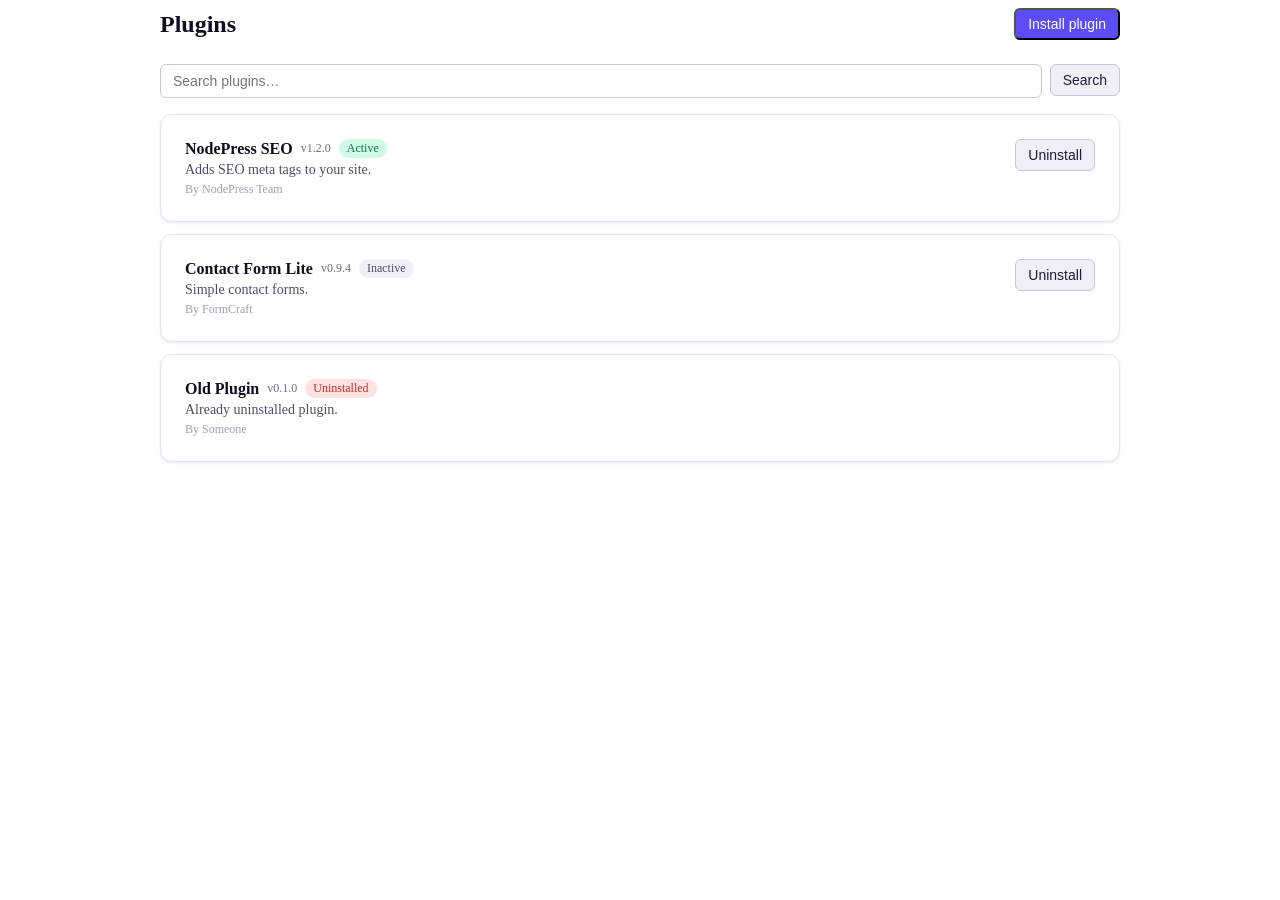
Test: PluginsPage — marketplace (Sprint 7) › install modal — shows error message on backend failure
Check: the text "NodePress SEO" is shown, box [185, 140, 293, 158]
Note: Exact name to avoid matching "Uninstall plugin ..." buttons
Click the button "Install plugin": click(1067, 24) [1014, 8, 1120, 40]
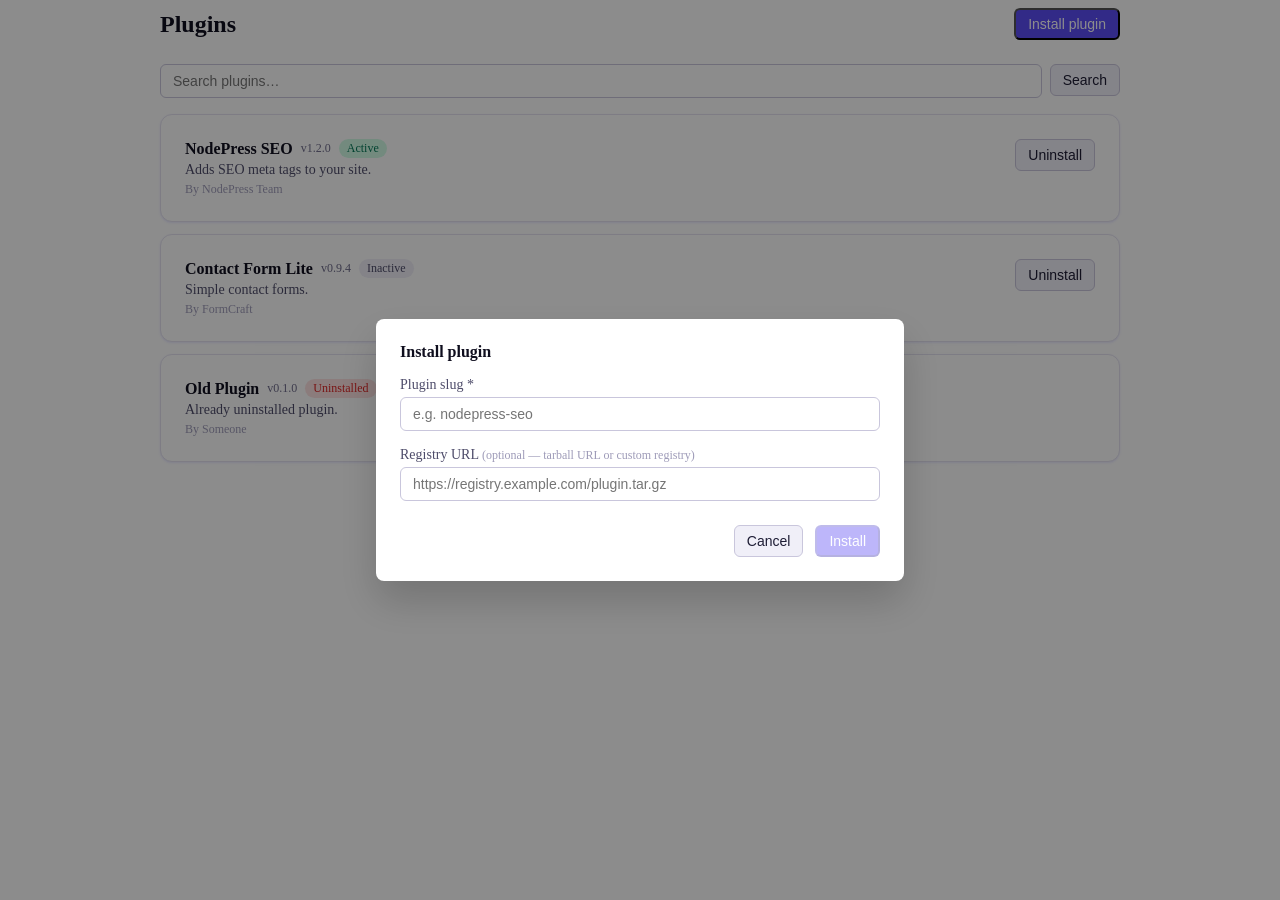
In the field labelled "Plugin slug *": (640, 414) [400, 397, 880, 431], type "bad-plugin"
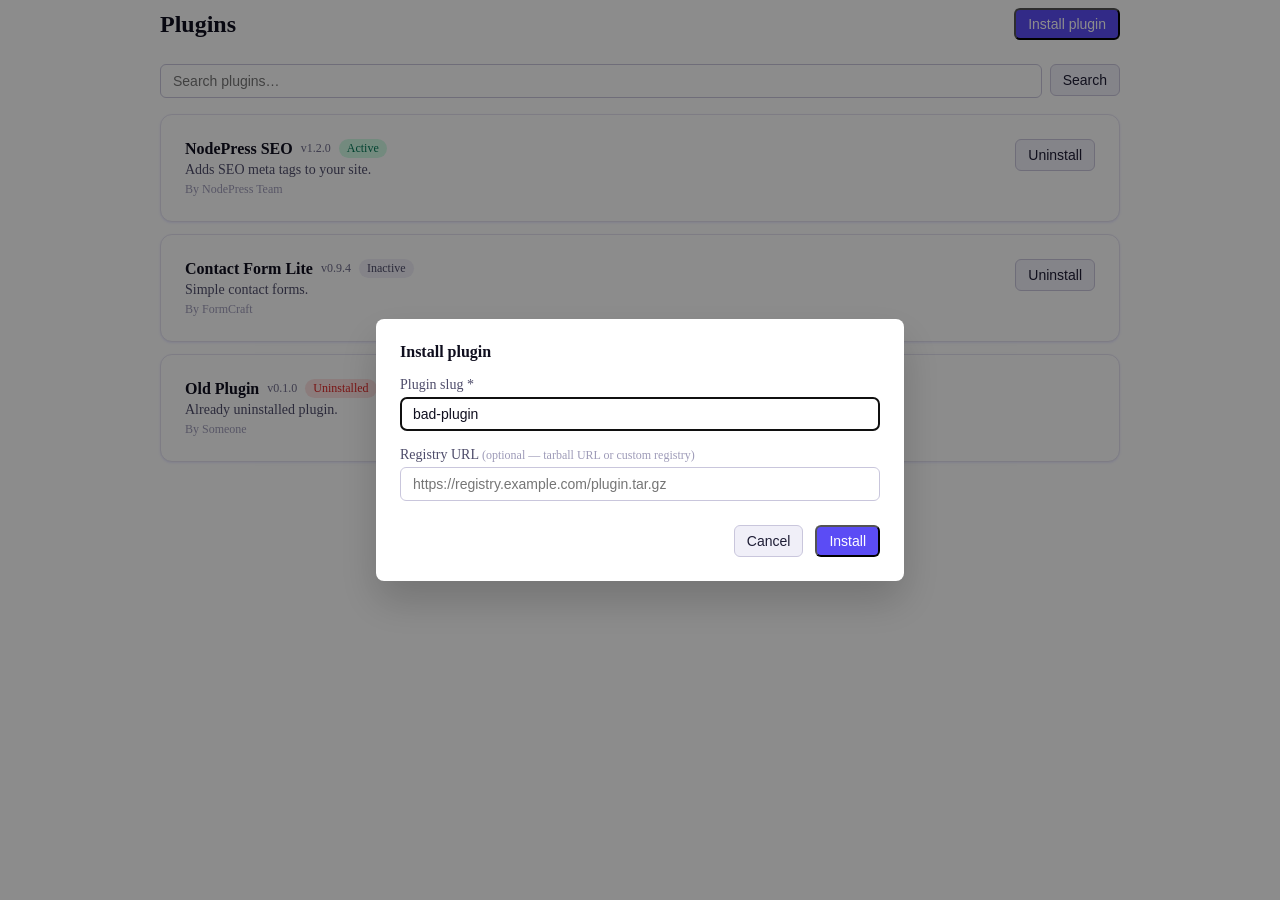
Click the button with aria-label "confirm install": click(848, 541) [815, 525, 880, 557]
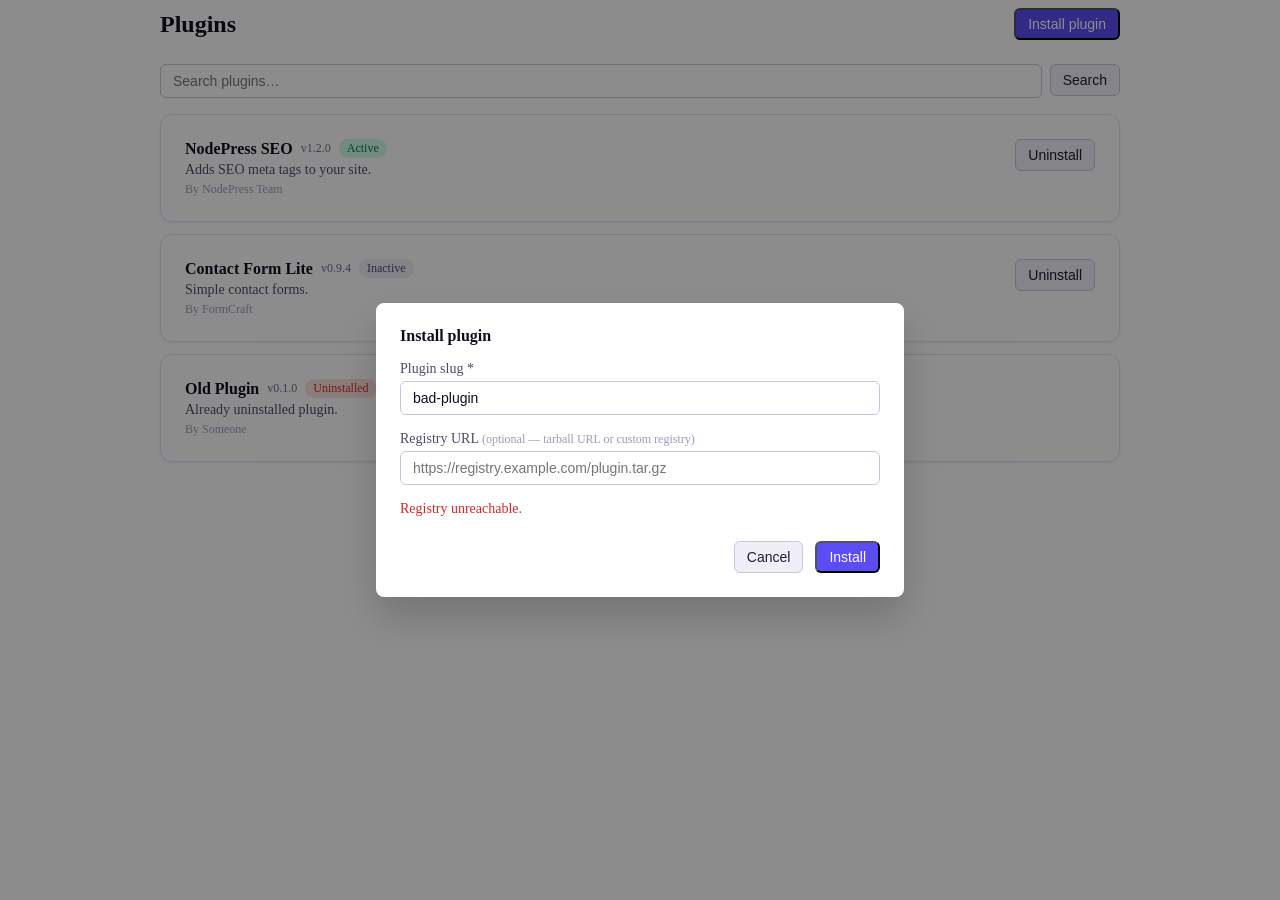
Check: the dialog is shown
Check: the text "Registry unreachable." is shown, box [400, 501, 522, 516]
